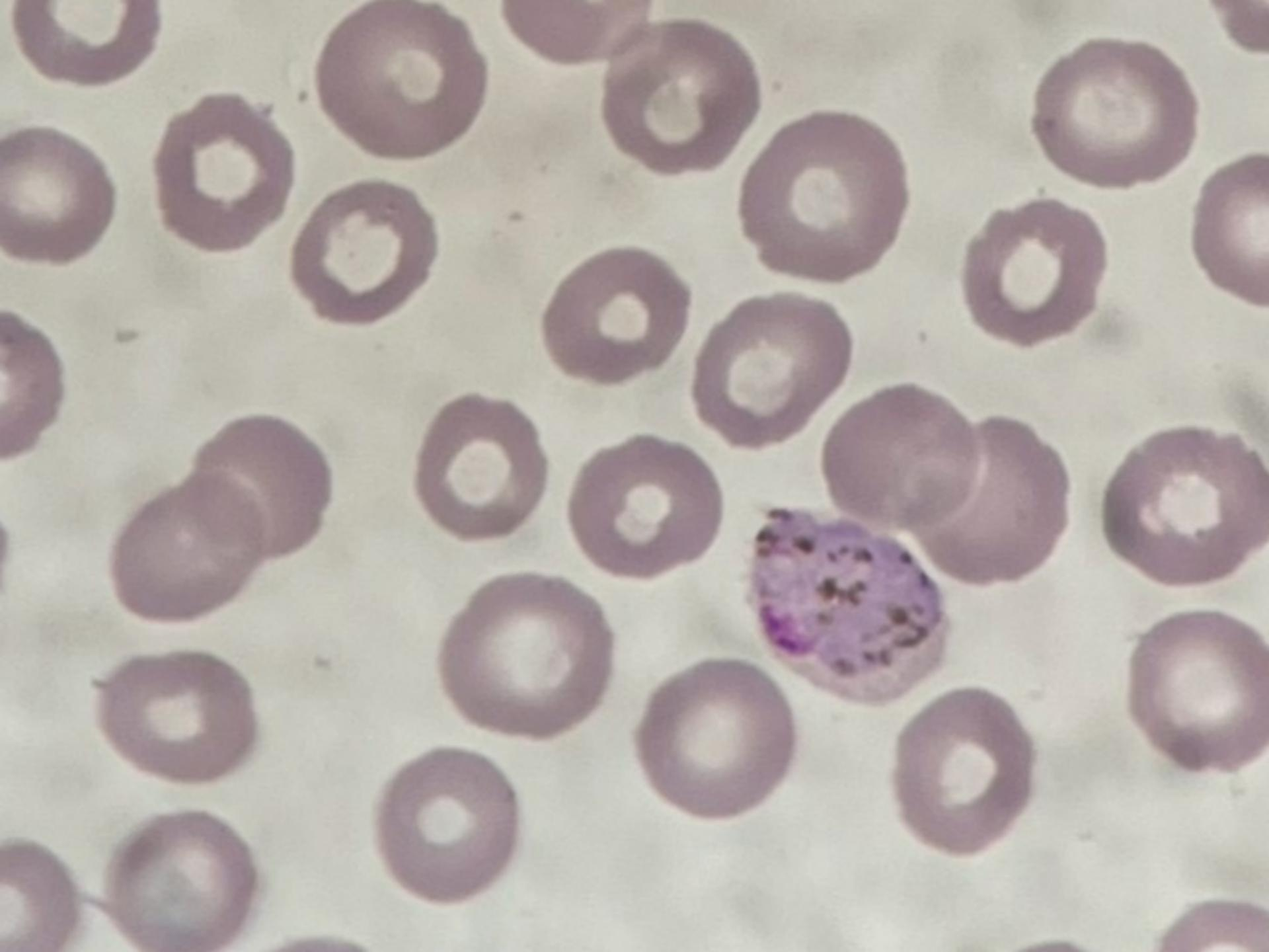Infected: (747, 501, 952, 709)
Uninfected: (742, 111, 906, 282), (443, 576, 612, 736), (315, 3, 484, 159), (1100, 428, 1265, 582), (634, 662, 794, 819), (915, 425, 1065, 584), (891, 689, 1034, 855), (694, 293, 852, 443), (1034, 37, 1196, 182), (604, 21, 759, 172), (1124, 614, 1269, 775), (823, 387, 978, 532), (961, 199, 1107, 351), (375, 751, 521, 902), (155, 95, 297, 246), (569, 437, 720, 579), (112, 483, 266, 621), (540, 247, 691, 385), (106, 811, 256, 949), (96, 652, 254, 783), (290, 181, 435, 323), (414, 393, 553, 541), (196, 416, 330, 557), (1, 127, 114, 260), (13, 1, 153, 84)
